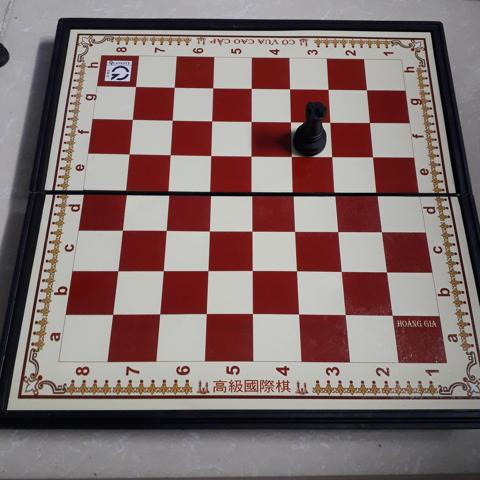xcorner: (334, 261, 351, 278), (292, 305, 308, 322), (158, 219, 174, 236), (118, 180, 134, 197), (244, 145, 261, 161), (325, 146, 342, 162), (125, 110, 142, 126), (165, 110, 181, 127), (167, 78, 183, 95), (105, 305, 121, 321), (152, 305, 168, 321), (199, 305, 215, 321), (245, 305, 261, 321), (338, 306, 354, 322), (384, 306, 400, 322), (110, 261, 126, 277), (155, 261, 171, 277), (200, 261, 216, 277), (245, 261, 261, 277), (290, 261, 306, 277), (379, 262, 395, 278), (114, 219, 130, 235), (201, 220, 217, 236), (245, 220, 261, 236), (288, 220, 304, 236), (331, 220, 347, 236), (374, 221, 390, 237), (160, 181, 176, 197), (203, 181, 219, 197), (245, 181, 261, 197), (287, 182, 303, 198), (328, 182, 344, 198), (370, 182, 386, 198), (122, 144, 138, 160), (163, 145, 179, 161), (204, 145, 220, 161), (285, 146, 301, 162), (366, 146, 382, 162), (205, 111, 221, 127), (244, 111, 260, 127), (284, 112, 300, 128), (323, 112, 339, 128), (362, 112, 378, 128), (129, 78, 145, 94), (206, 79, 222, 95), (244, 79, 260, 95), (282, 80, 298, 96), (320, 80, 336, 96), (358, 81, 374, 97)
